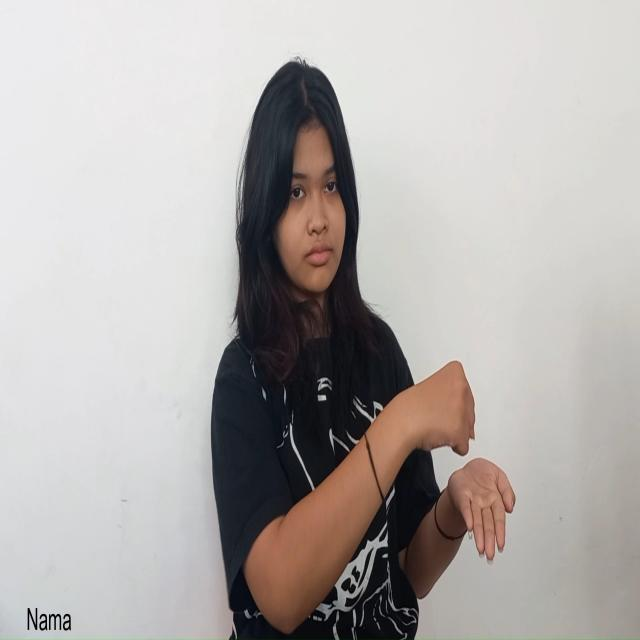Nama -BISINDO-: (411, 360, 516, 566)
